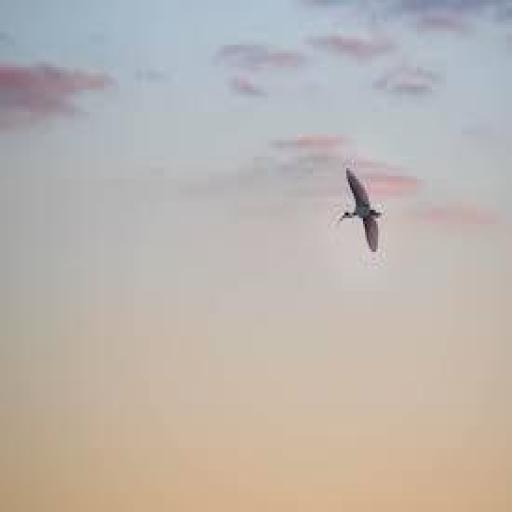birds: (336, 160, 397, 262)
